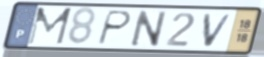2: (164, 11, 196, 48)
8: (65, 7, 100, 48)
M: (25, 7, 75, 47)
N: (129, 9, 169, 48)
P: (95, 9, 134, 46)
V: (202, 12, 236, 48)
